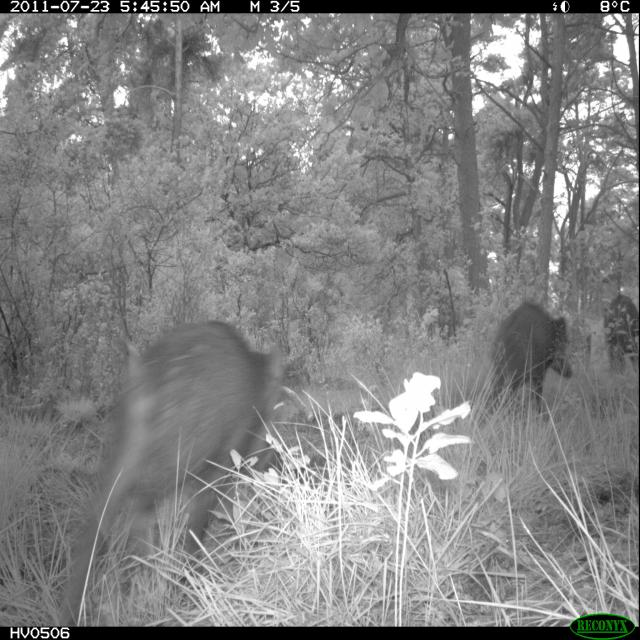boar: (39, 258, 315, 620), (474, 283, 589, 409), (601, 267, 640, 393)
